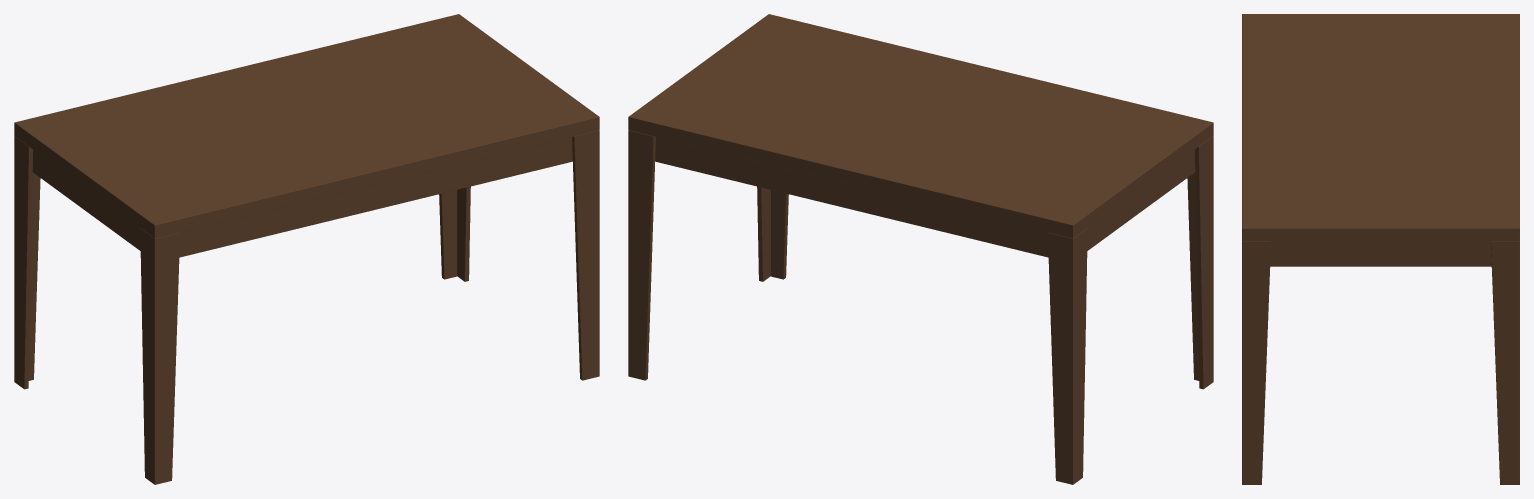
Rendered from table.glb.
3 renders of one model, left to right at view 1: azimuth 30°, elevation 25°; view 2: azimuth 150°, elevation 25°; view 3: azimuth 270°, elevation 25°, orthographic.
Parts seen in each view (by area): view 1: table; view 2: table; view 3: table.
Boxes of the visible parts, left/top/right/bottom form: table: left=14, top=14, right=599, bottom=484; table: left=628, top=14, right=1213, bottom=484; table: left=1242, top=14, right=1519, bottom=484.
Size of the model in its own units: 1.1 by 0.6114 by 0.5996.
